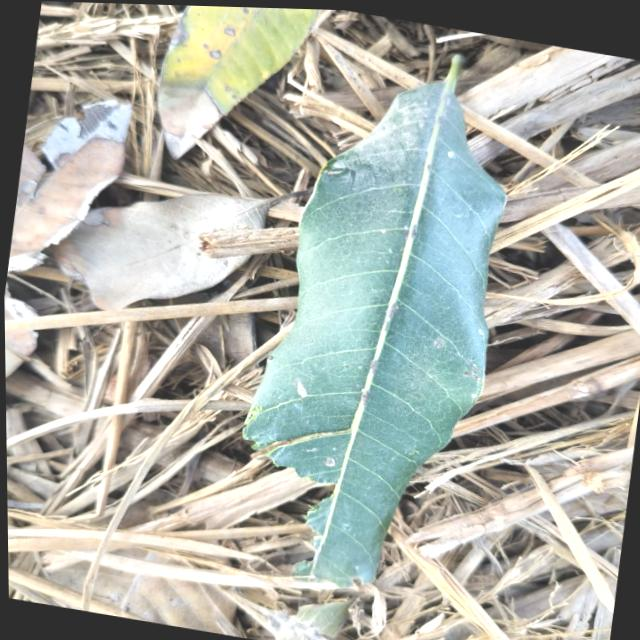Bacterial Cancer: (233, 419, 309, 466)
